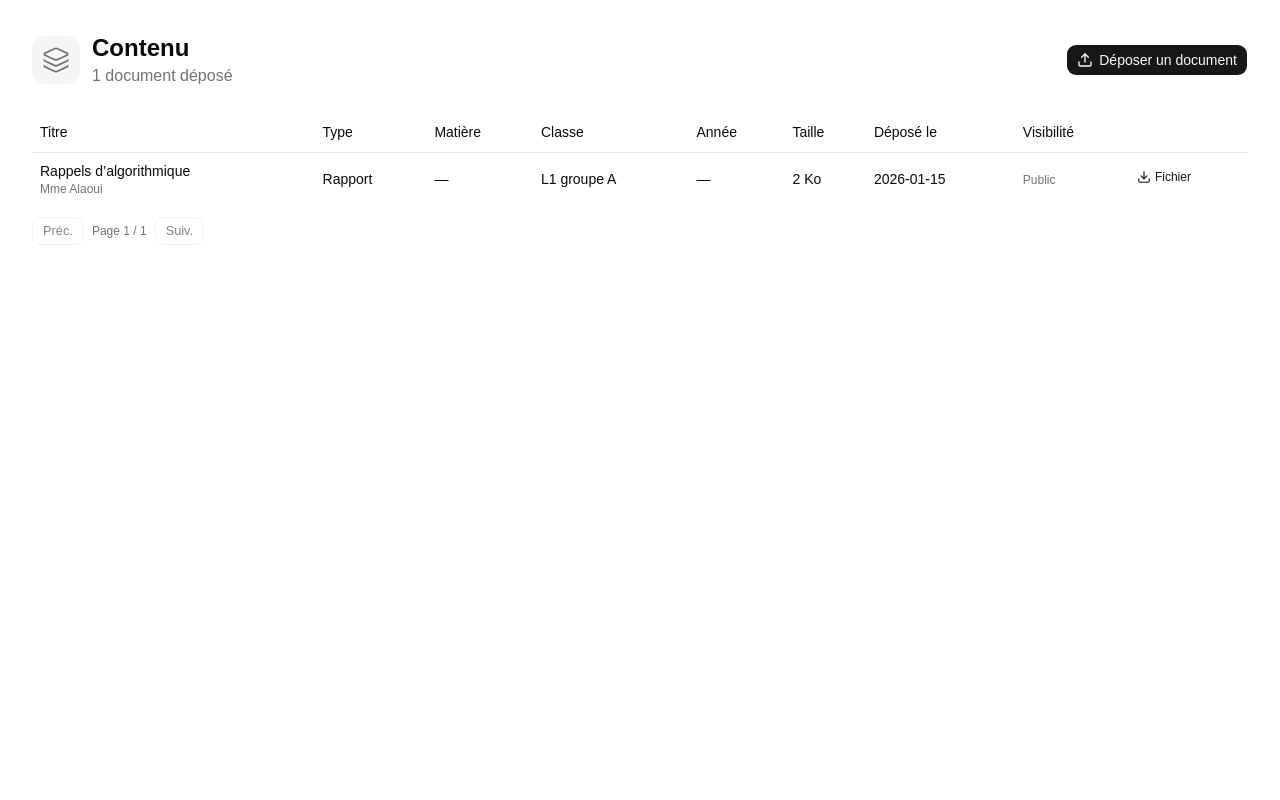
it: AdminContenu › dépôt › refuse un dépôt sans fichier ni lien avant d’appeler l’API
Click the button "Déposer un document" at (1157, 60), box left=1066, top=44, right=1248, bottom=76
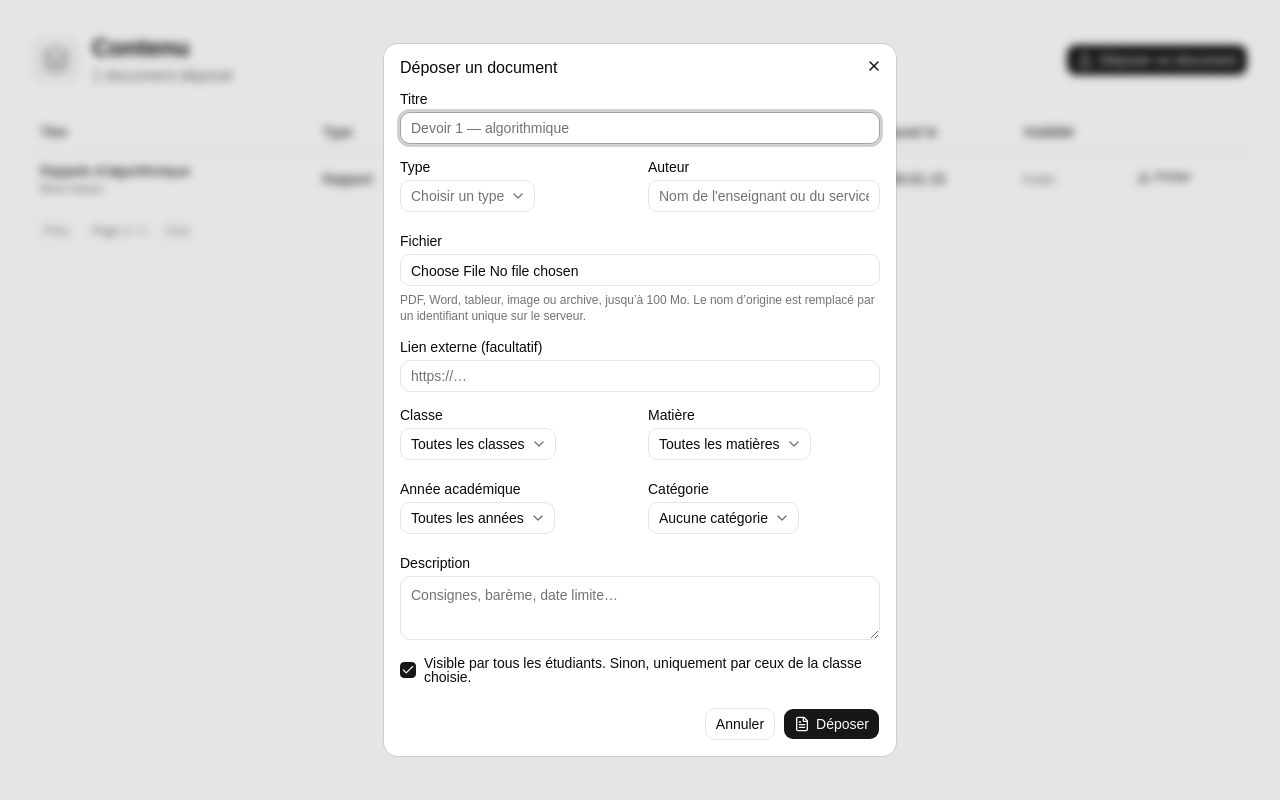
Type "Document sans fichier" into the field labelled "Titre" at (640, 128), box left=400, top=112, right=880, bottom=144
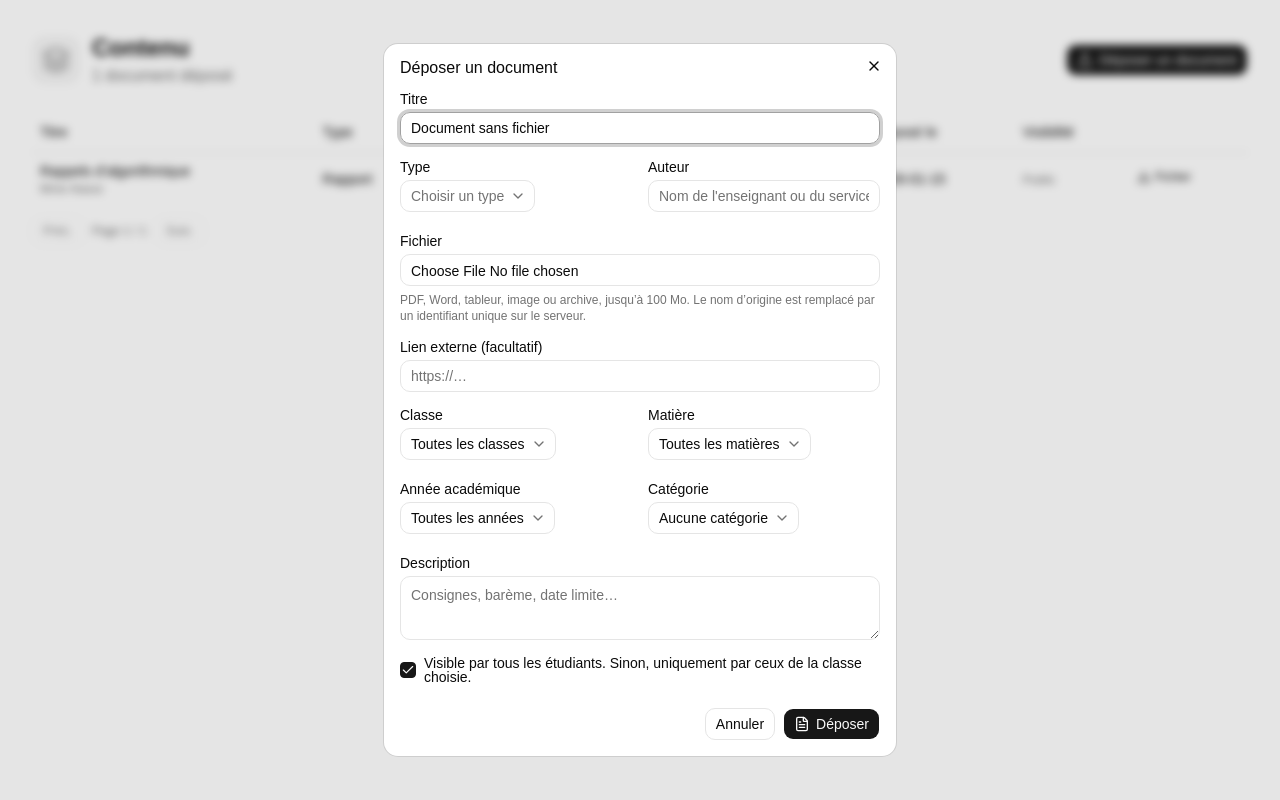
Click the button "Déposer" at (832, 724), box left=783, top=708, right=880, bottom=740
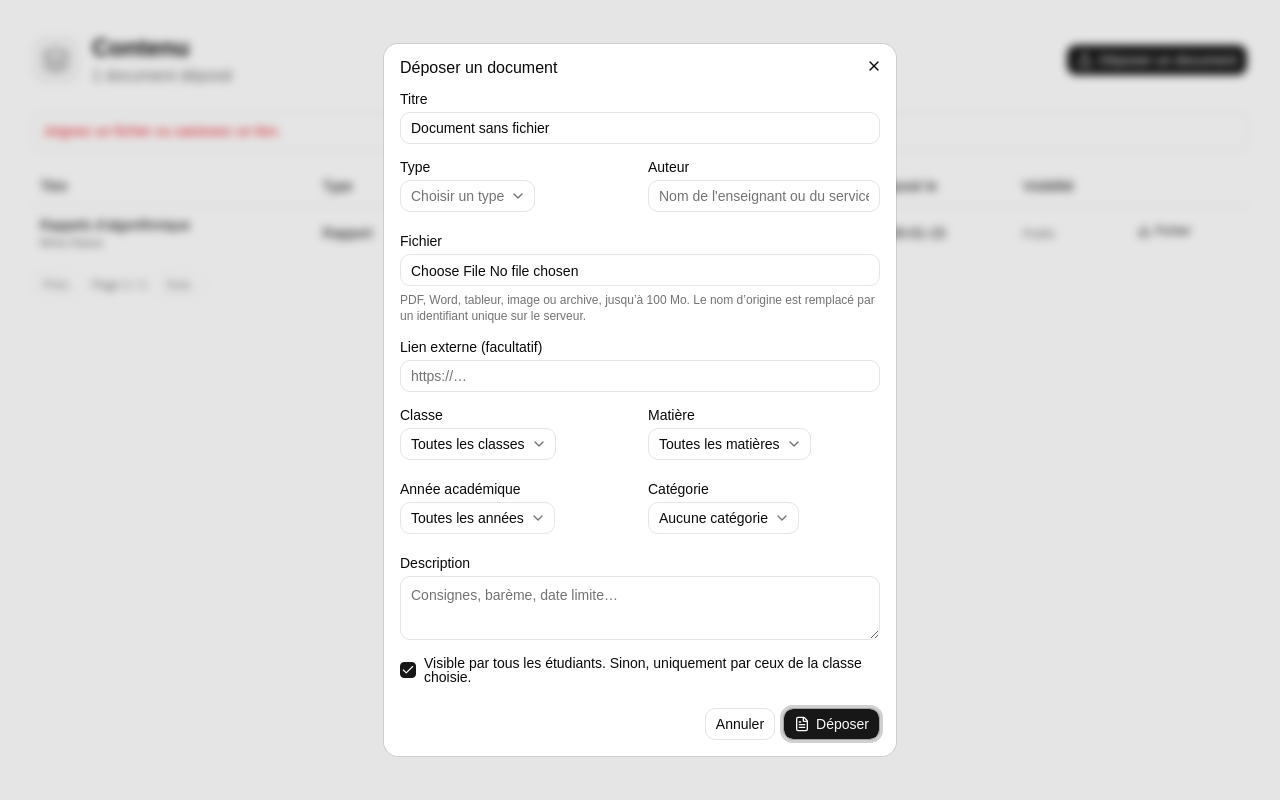
Now the text "Joignez un fichier ou saisissez un lien." is shown, box left=43, top=123, right=281, bottom=139
